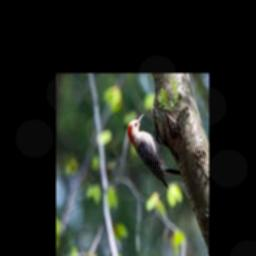Woodpecker: (128, 112, 182, 188)
